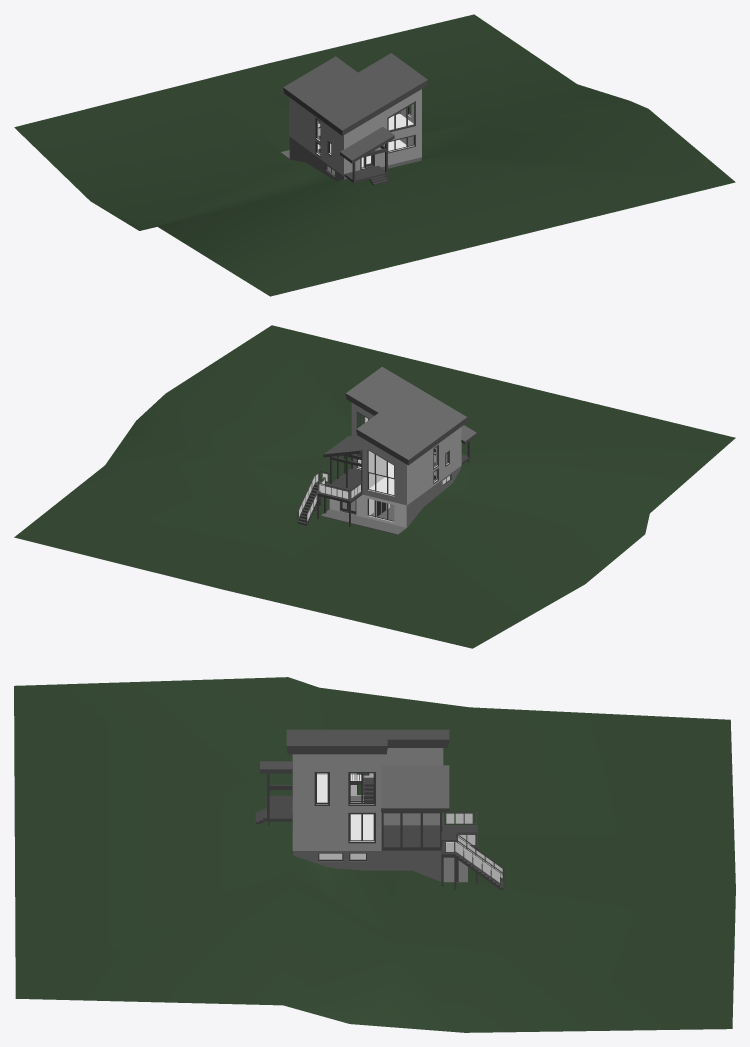
3 renders of one model, top to bottom at view 1: azimuth 30°, elevation 25°; view 2: azimuth 150°, elevation 25°; view 3: azimuth 270°, elevation 25°, orthographic. The views are drawn at different scales.
Visible parts, largest first — view 1: Site - Terre, E-TOITURE BARDEAUX, Vinyle, Structure - Wood Joist/Rafter Layer, Batt Insulation_Materia, Generic, object 18, Bois, object 11; view 2: Site - Terre, E-TOITURE BARDEAUX, Vinyle, Generic, Structure - Wood Joist/Rafter Layer, Batt Insulation_Materia, object 9, Bois, Vinyle (Vertical), object 18, Glass, Bois - Terrasse, Gypse; view 3: Site - Terre, Vinyle, E-TOITURE BARDEAUX, Generic, object 18, Structure - Wood Joist/Rafter Layer, Batt Insulation_Materia, Bois - Terrasse, Bois, Glass, object 11.
Part boxes in pixels (x1,y1,x2,y2): Site - Terre: (14, 14, 735, 296); E-TOITURE BARDEAUX: (283, 53, 427, 160); Vinyle: (289, 89, 421, 175); Structure - Wood Joist/Rafter Layer, Batt Insulation_Materia: (283, 80, 427, 163); Generic: (316, 107, 414, 185); object 18: (289, 137, 421, 181); Bois: (315, 101, 415, 180); object 11: (318, 114, 413, 168); Site - Terre: (14, 325, 735, 648); E-TOITURE BARDEAUX: (324, 367, 476, 459); Vinyle: (351, 403, 461, 505); Generic: (297, 413, 470, 525); Structure - Wood Joist/Rafter Layer, Batt Insulation_Materia: (323, 393, 476, 465); object 9: (321, 500, 406, 534); Bois: (314, 441, 470, 526); Vinyle (Vertical): (329, 494, 406, 527); object 18: (406, 466, 460, 527); Glass: (299, 473, 360, 520); Bois - Terrasse: (315, 468, 362, 501); Gypse: (358, 417, 446, 516); Site - Terre: (14, 677, 735, 1032); Vinyle: (292, 748, 443, 850); E-TOITURE BARDEAUX: (260, 729, 449, 808); Generic: (255, 773, 504, 889); object 18: (293, 798, 441, 881); Structure - Wood Joist/Rafter Layer, Batt Insulation_Materia: (260, 739, 449, 812); Bois - Terrasse: (383, 825, 477, 854); Bois: (267, 762, 477, 890); Glass: (446, 813, 502, 882); object 11: (317, 774, 373, 840).
Size of the model in its own units: 2175 by 431 by 1972.
